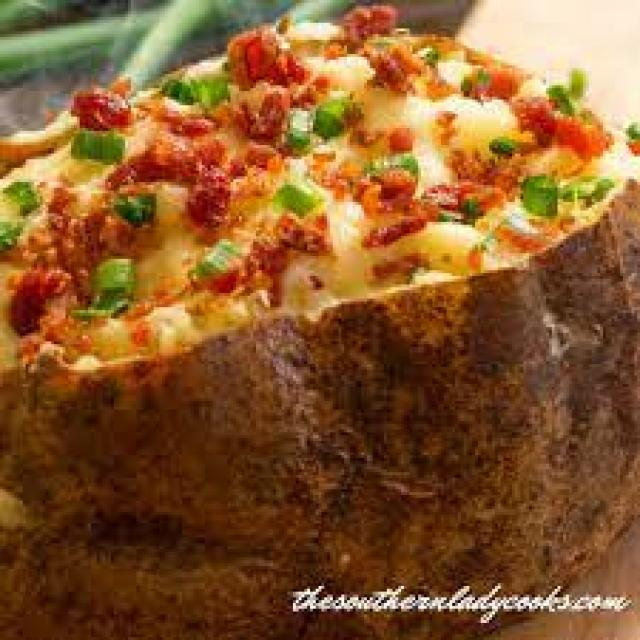Baked Potato: (0, 74, 640, 577)
